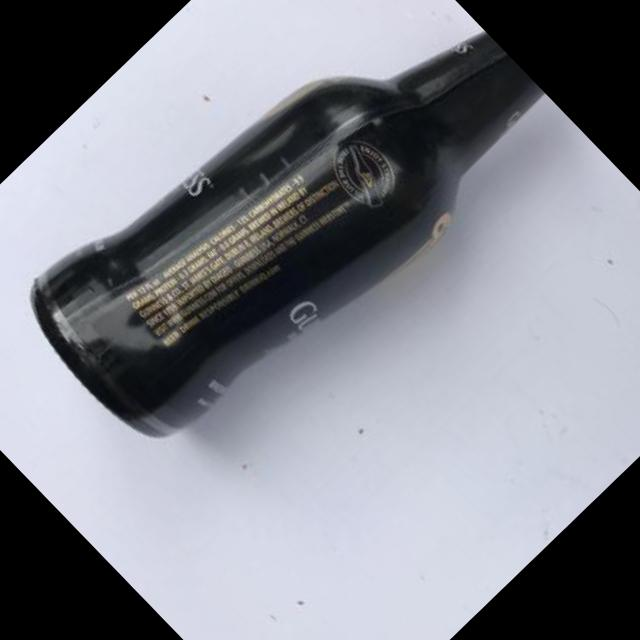BotolKaca: (2, 0, 562, 484)
